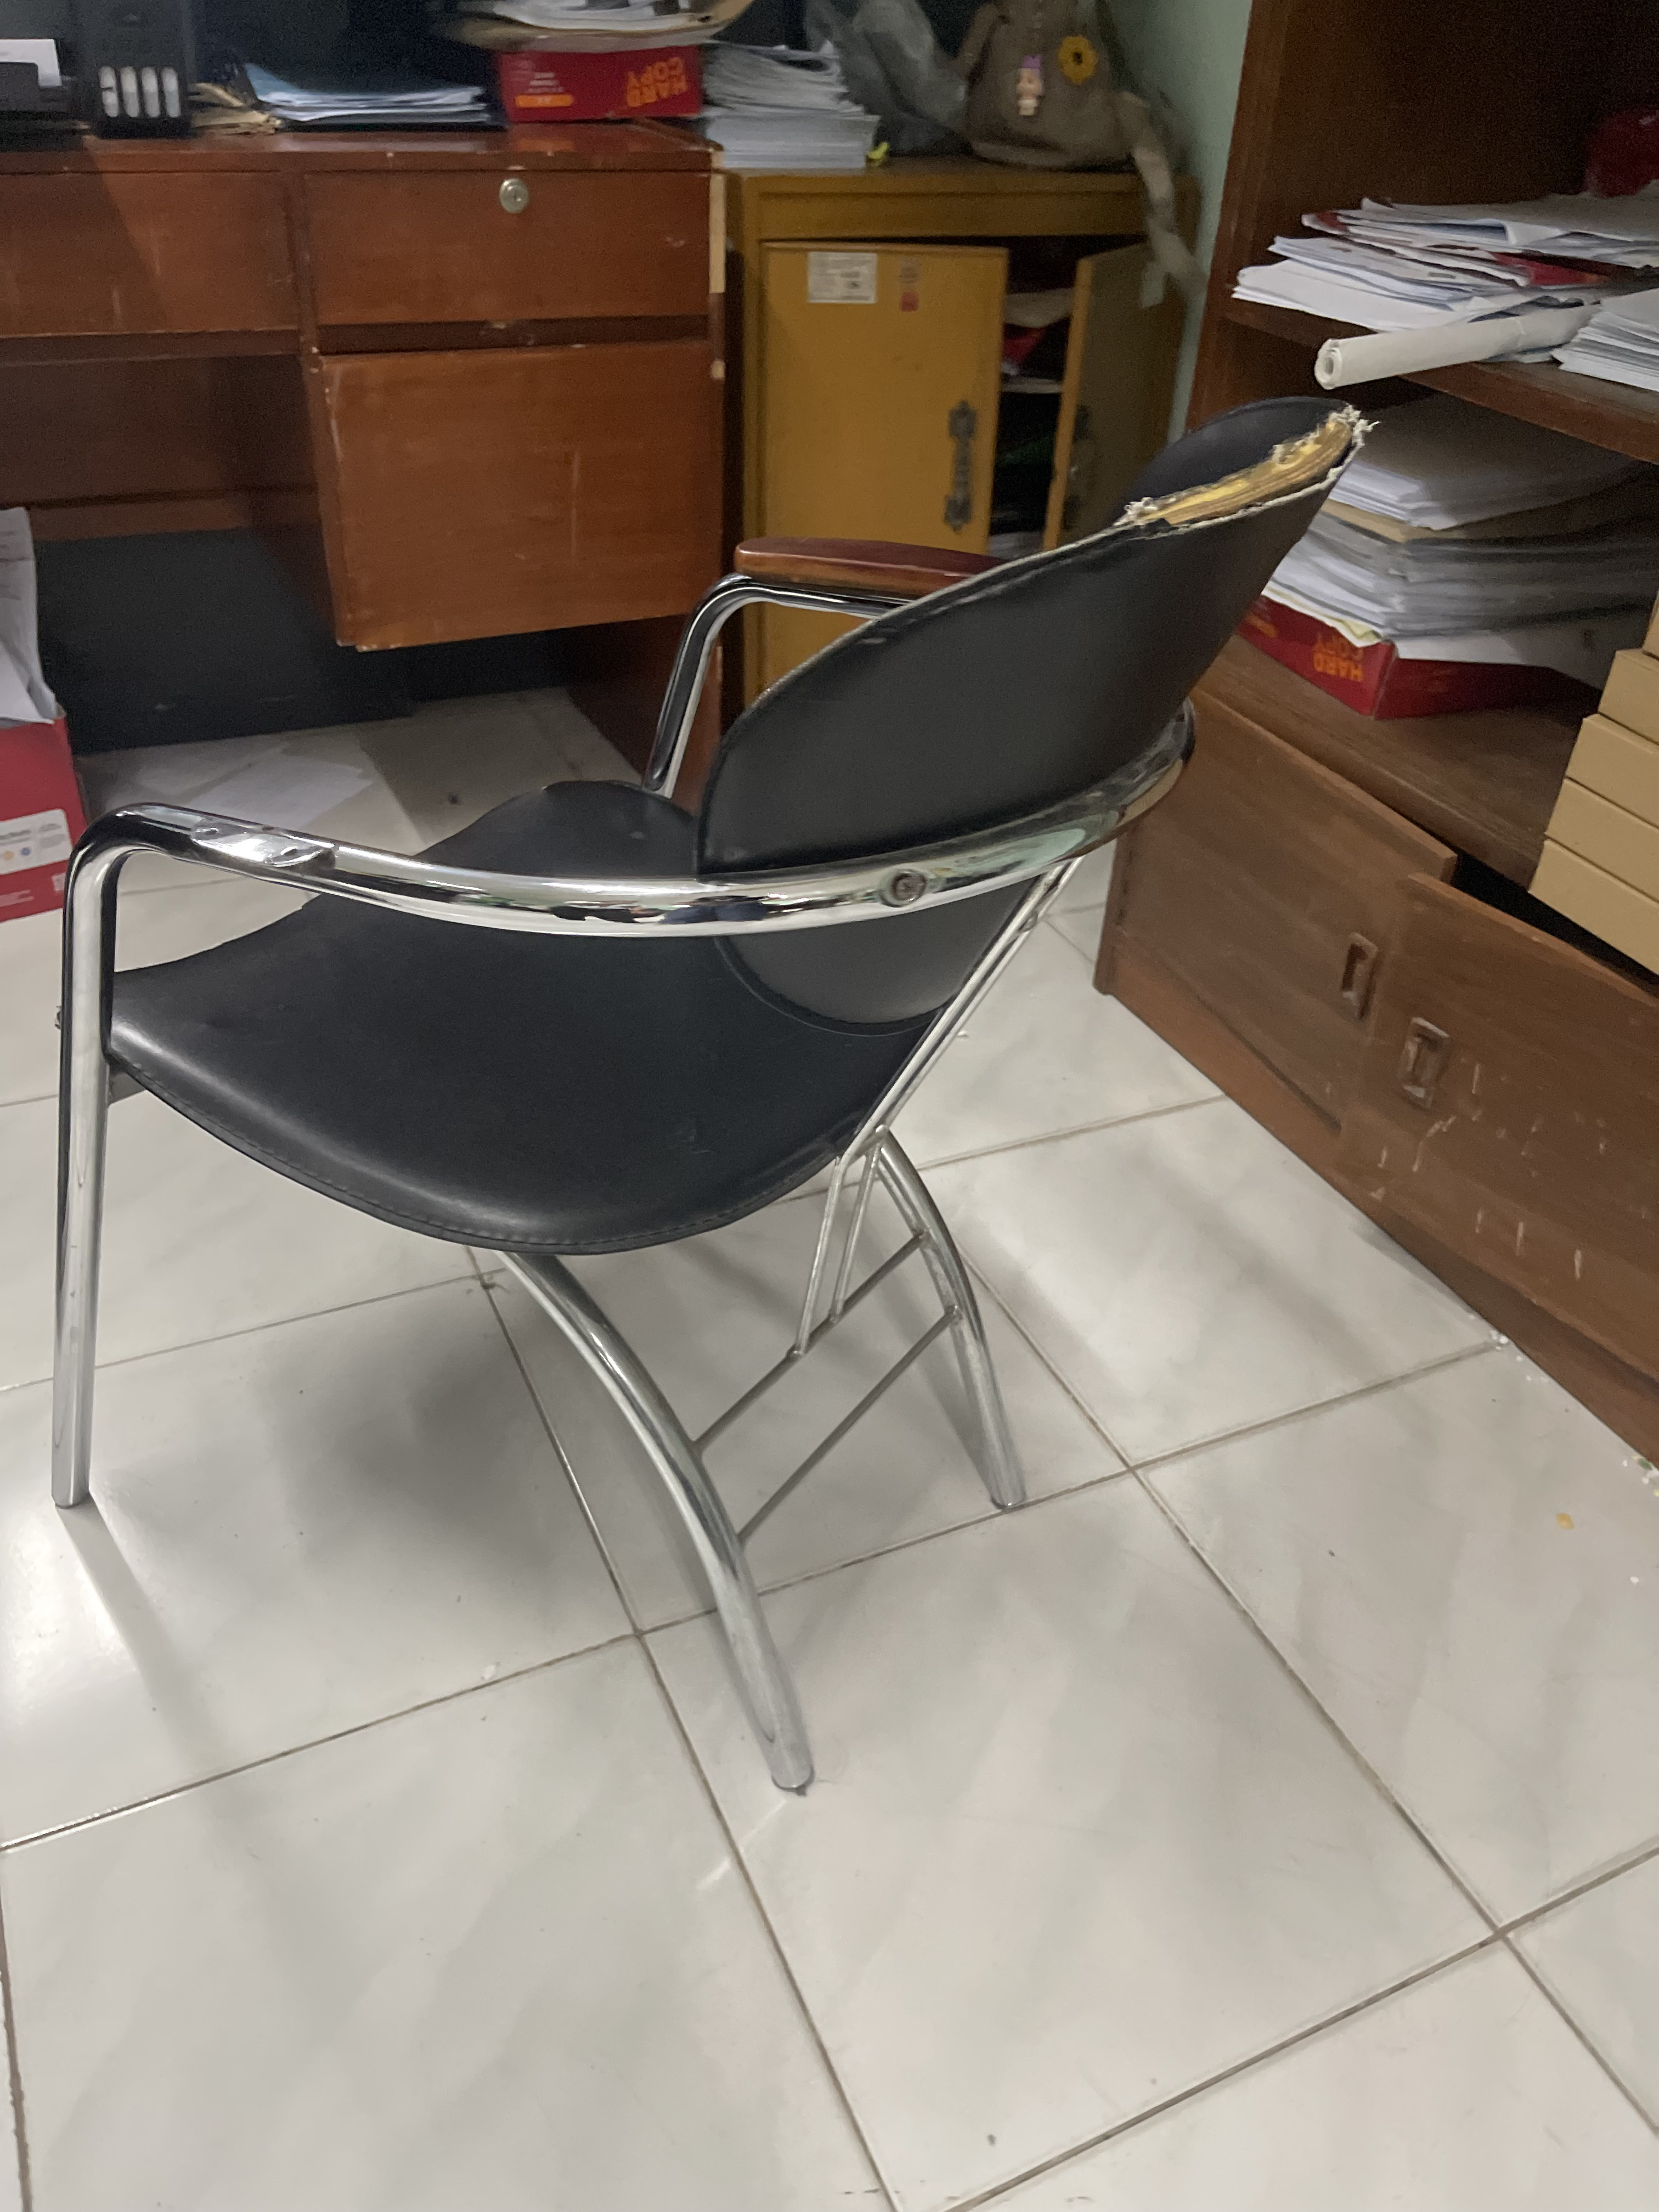chair1: (49, 395, 1375, 1810)
